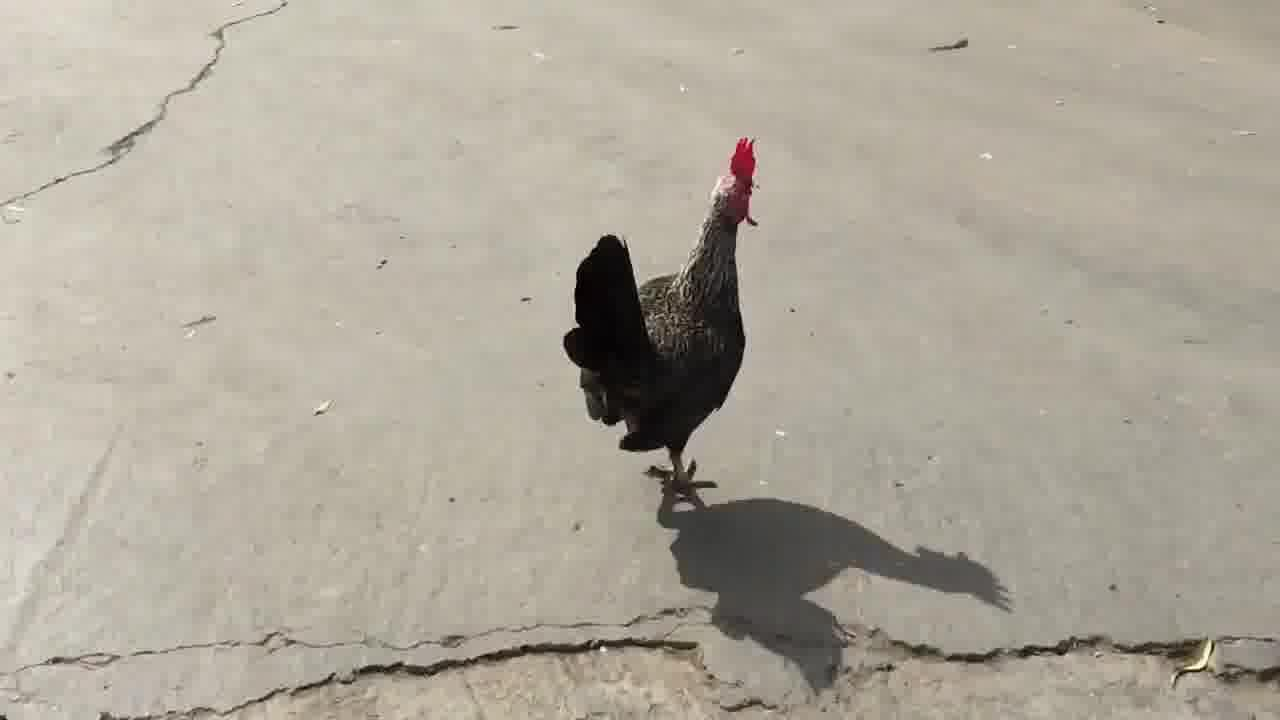Normal: (536, 124, 816, 504)
